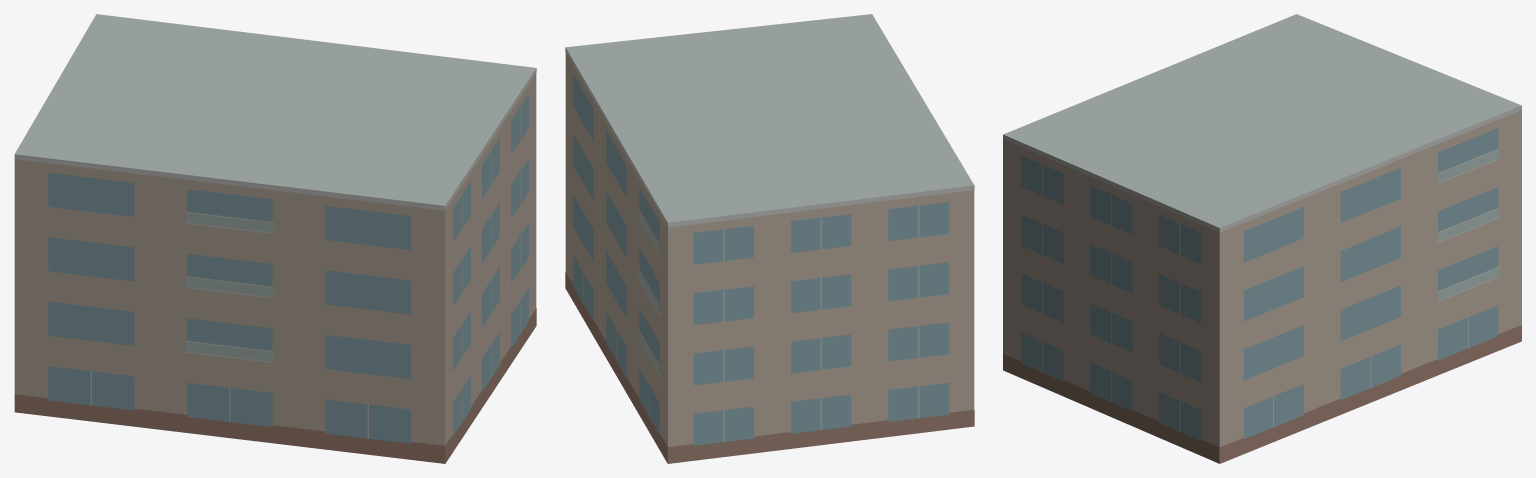
Rendered from survey-upis-32974004.glb.
3 renders of one model, left to right at view 1: azimuth 30°, elevation 25°; view 2: azimuth 150°, elevation 25°; view 3: azimuth 270°, elevation 25°, orthographic. The views are drawn at different scales.
Parts seen in each view (by area): view 1: survey-upis-32974004.tmp; view 2: survey-upis-32974004.tmp; view 3: survey-upis-32974004.tmp.
Boxes of the visible parts, left/top/right/bottom form: survey-upis-32974004.tmp: left=14, top=14, right=536, bottom=463; survey-upis-32974004.tmp: left=565, top=14, right=974, bottom=463; survey-upis-32974004.tmp: left=1003, top=14, right=1521, bottom=463.
Size of the model in its own units: 24.53 by 12.6 by 25.12.
